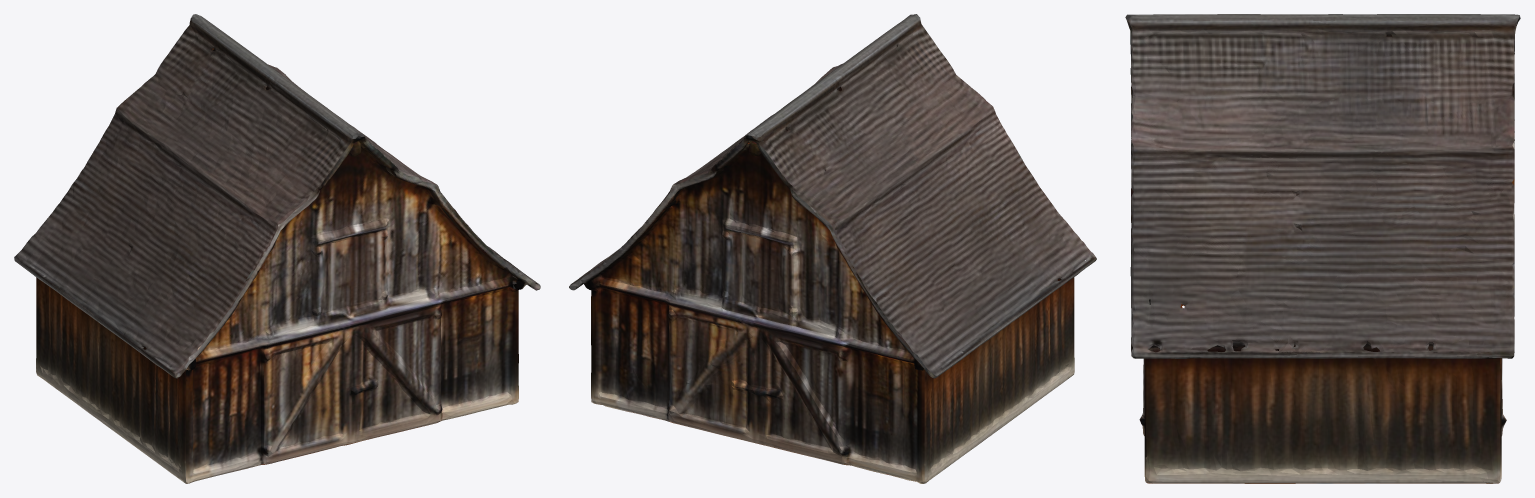
File: mdl_barn_001.glb
The picture shows the model from 3 angles, left to right: view 1: azimuth 30°, elevation 25°; view 2: azimuth 150°, elevation 25°; view 3: azimuth 270°, elevation 25°; orthographic projection. The views are drawn at different scales.
Visible parts, largest first — view 1: tmpl6bceplg.ply; view 2: tmpl6bceplg.ply; view 3: tmpl6bceplg.ply.
Part boxes in pixels (bbox=[...]): tmpl6bceplg.ply: bbox=[14, 14, 540, 483]; tmpl6bceplg.ply: bbox=[569, 14, 1096, 483]; tmpl6bceplg.ply: bbox=[1125, 14, 1520, 483].
Bounding box in the file's own units: 0.9899 × 0.812 × 0.7783.
1 material, 1 textured.
